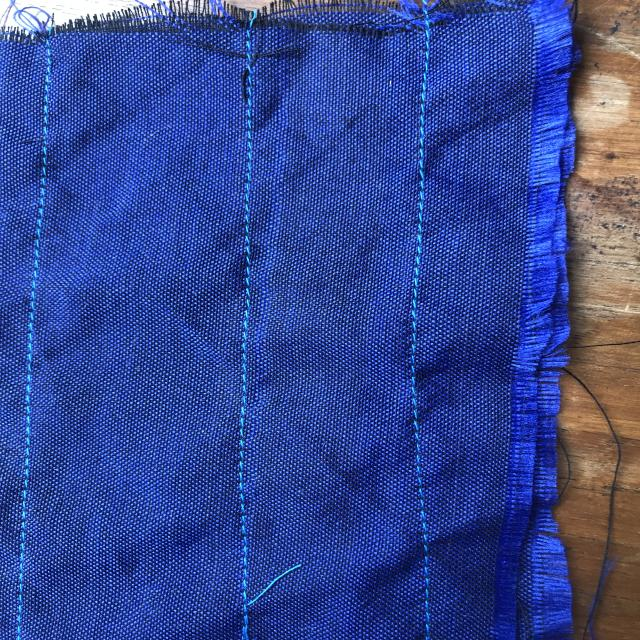good: (18, 225, 57, 341), (406, 210, 428, 332)
